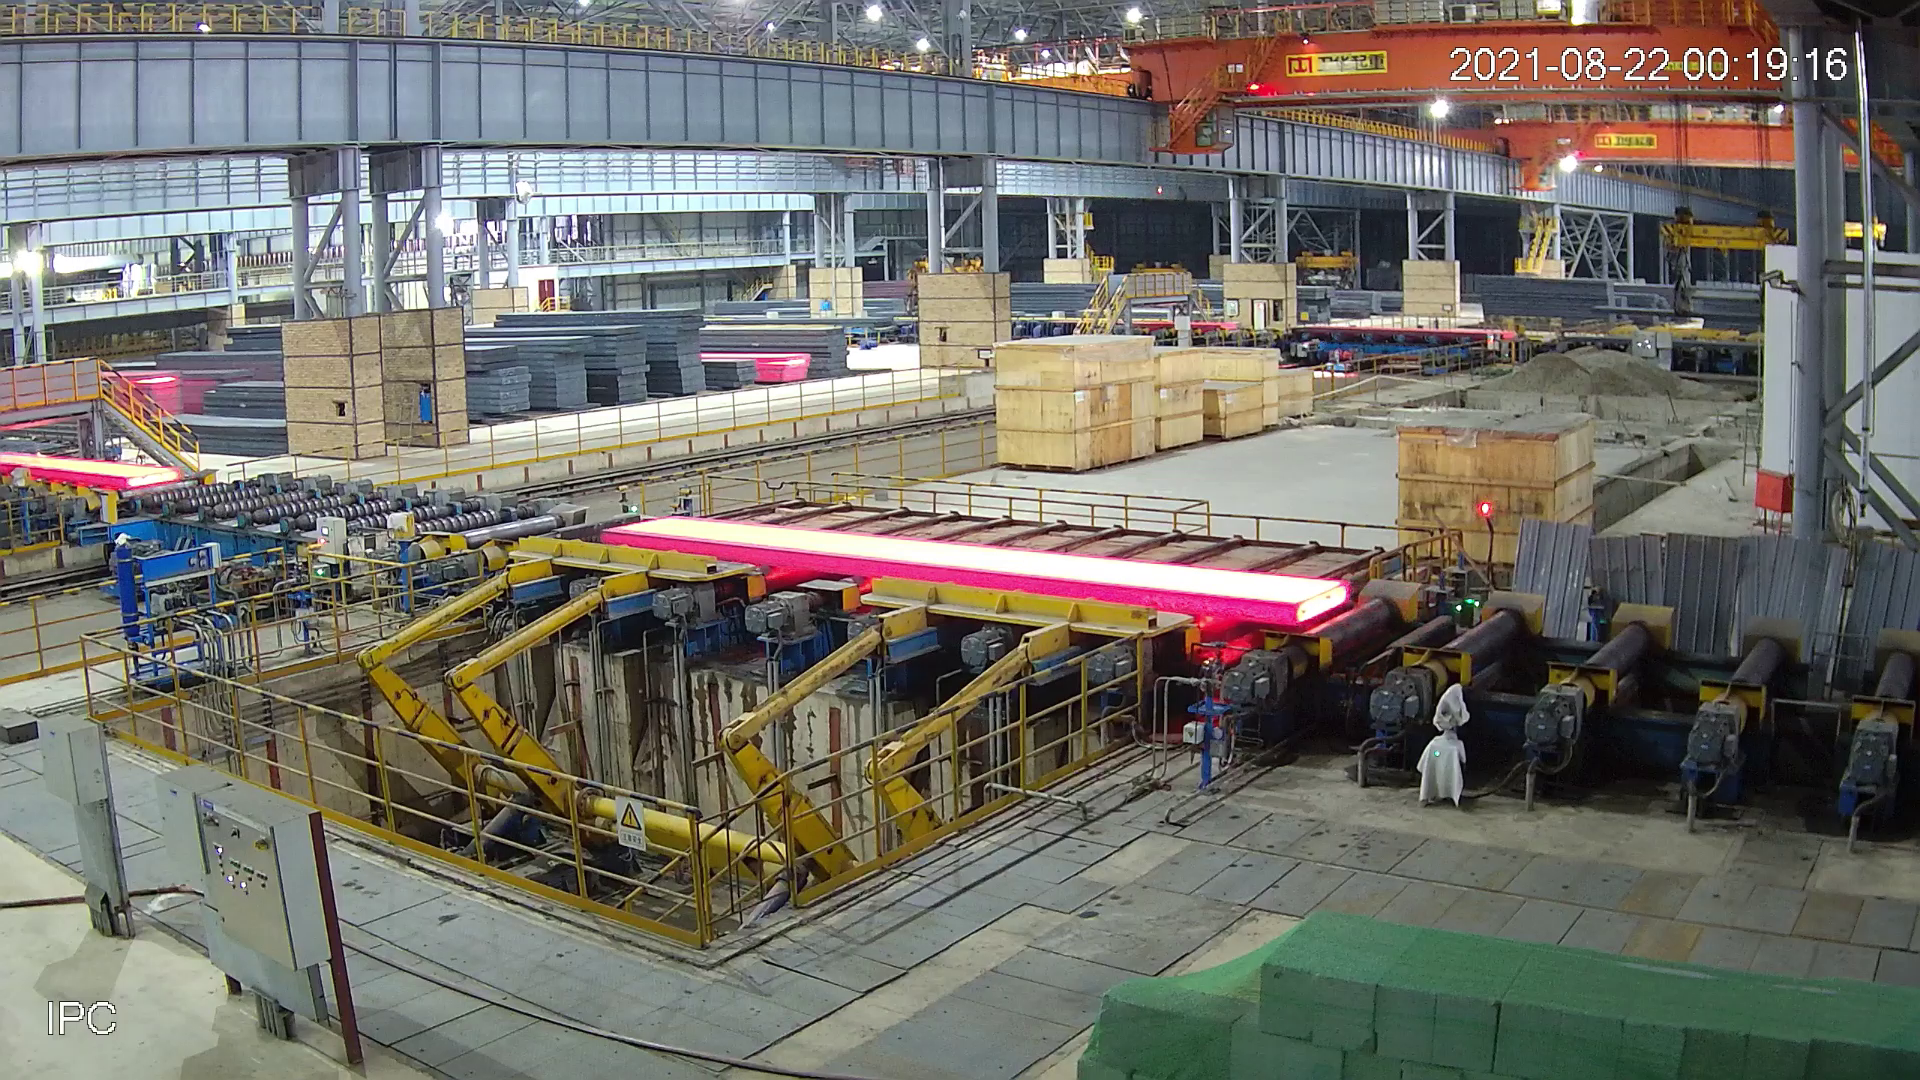slab: (599, 508, 1352, 632), (1, 440, 182, 492)
